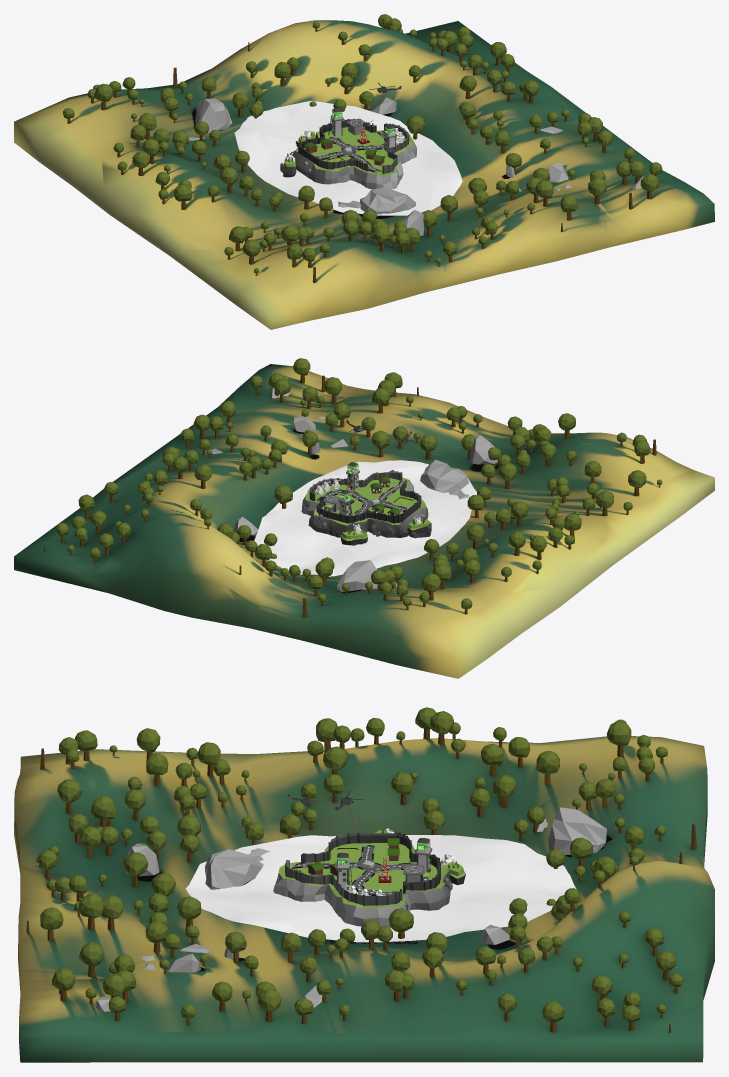
File: main.glb
3 views of the same model, one above another, from view 1: azimuth 30°, elevation 25°; view 2: azimuth 150°, elevation 25°; view 3: azimuth 270°, elevation 25° (orthographic). The views are drawn at different scales.
Parts seen in each view (by area): view 1: Floor, Trees, Plane, World9-Miitary, Rocks; view 2: Floor, Trees, Plane, World9-Miitary, Rocks; view 3: Floor, Trees, Plane, World9-Miitary, Rocks.
Boxes of the visible parts, bbox=[...] form: Floor: bbox=[14, 20, 714, 329]; Trees: bbox=[63, 14, 662, 283]; Plane: bbox=[234, 101, 462, 215]; World9-Miitary: bbox=[280, 82, 416, 189]; Rocks: bbox=[188, 97, 643, 235]; Floor: bbox=[14, 364, 714, 678]; Trees: bbox=[43, 358, 662, 617]; Plane: bbox=[254, 460, 476, 576]; World9-Miitary: bbox=[301, 419, 431, 545]; Rocks: bbox=[201, 387, 497, 591]; Floor: bbox=[14, 736, 714, 1062]; Trees: bbox=[26, 707, 697, 1032]; Plane: bbox=[185, 835, 576, 942]; World9-Miitary: bbox=[273, 790, 465, 927]; Rocks: bbox=[95, 807, 606, 1011].
Size of the model in its own units: 65.14 by 13.55 by 66.38.
8 materials, 3 textured.
